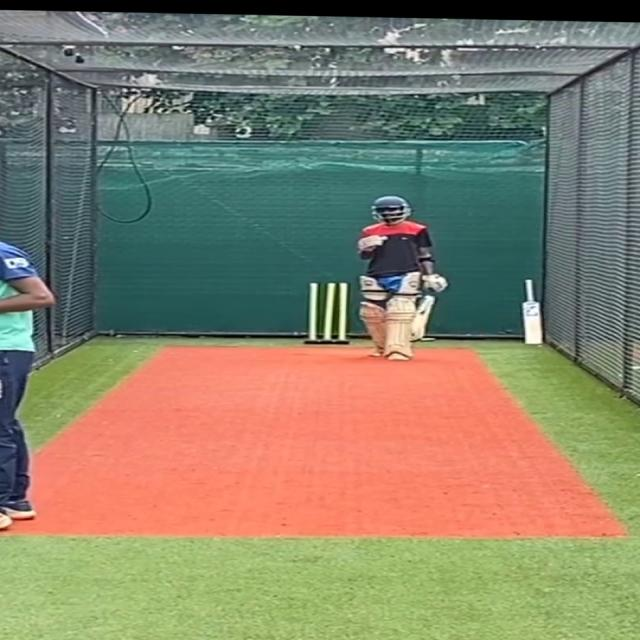stump: (294, 278, 352, 341)
